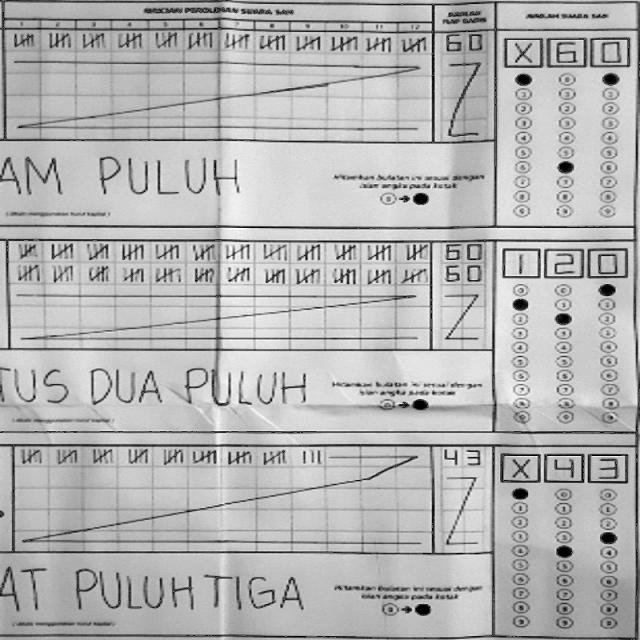Suara: (497, 30, 639, 73), (490, 241, 633, 283), (494, 446, 636, 488)
